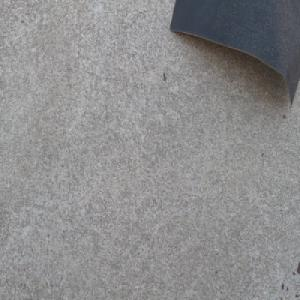PaintChip: (169, 0, 300, 109)
